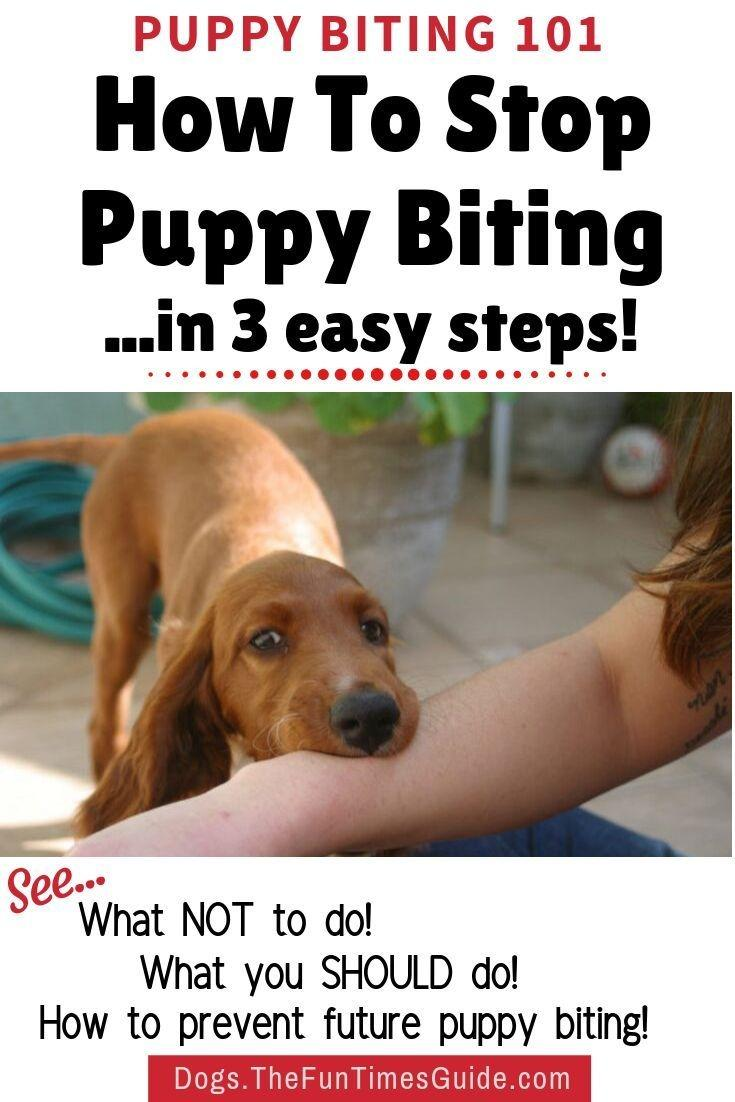puppy-dog: (1, 409, 421, 839)
